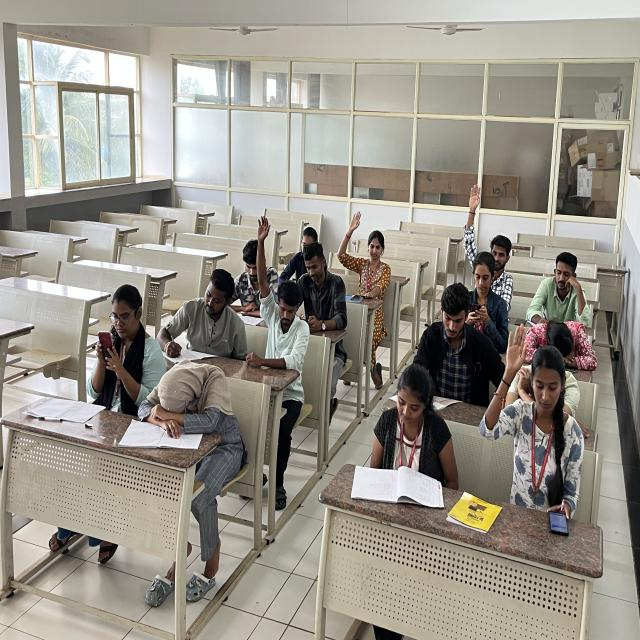Hand Rising: (485, 324, 585, 509), (248, 205, 307, 389), (464, 181, 516, 278), (336, 209, 393, 297)
Reading: (355, 369, 458, 509), (233, 240, 270, 328), (189, 340, 228, 346)
Sleeping: (136, 347, 246, 457), (525, 308, 604, 376)
Using Phone: (84, 280, 159, 420), (296, 240, 348, 334), (463, 250, 511, 341)
Writing: (156, 270, 250, 368), (525, 251, 593, 328)
